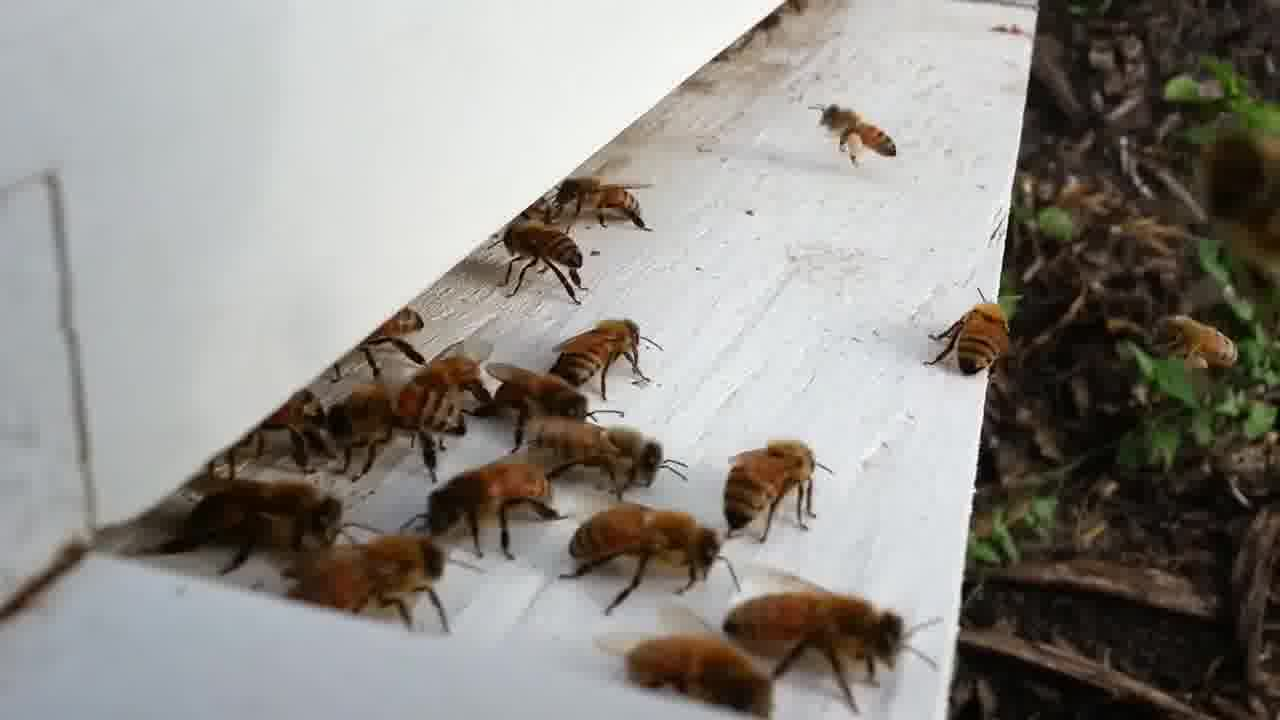pollen: (816, 101, 899, 165), (1158, 314, 1242, 374)
